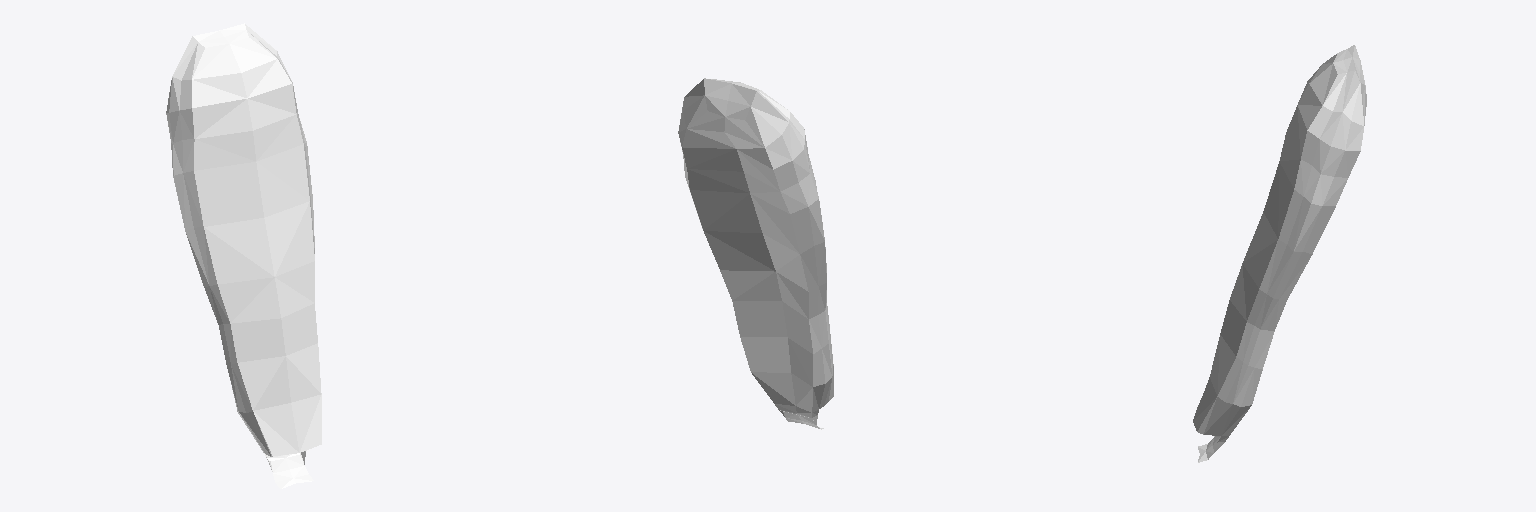
3 views of the same model, side by side, from view 1: azimuth 30°, elevation 25°; view 2: azimuth 150°, elevation 25°; view 3: azimuth 270°, elevation 25° (orthographic).
Visible parts, largest first — view 1: pasted__pCube28 group; view 2: pasted__pCube28 group; view 3: pasted__pCube28 group.
Boxes of the visible parts, x1=… form: pasted__pCube28 group: x1=166, y1=23, x2=321, y2=488; pasted__pCube28 group: x1=678, y1=78, x2=833, y2=429; pasted__pCube28 group: x1=1193, y1=45, x2=1366, y2=462.
Size of the model in its own units: 3.08 by 8.77 by 3.48.
Materials: 1 (1 with a texture image).